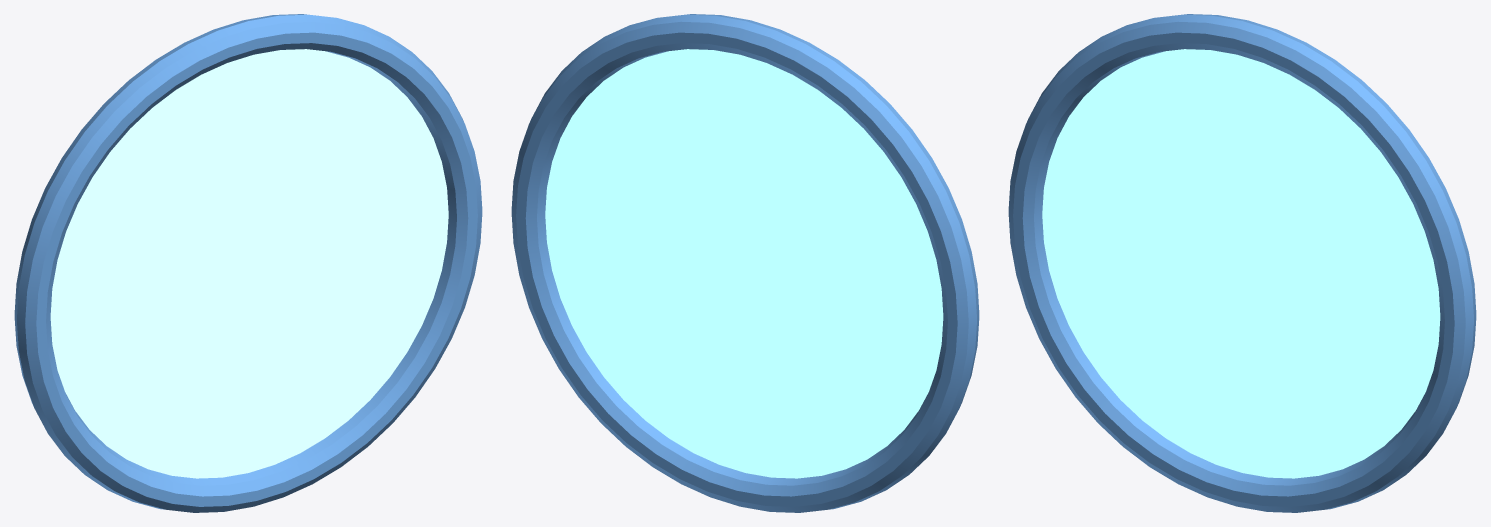
File: Portal_NextFloor.fbx
The picture shows the model from 3 angles, left to right: view 1: azimuth 30°, elevation 25°; view 2: azimuth 150°, elevation 25°; view 3: azimuth 330°, elevation 25°; orthographic projection.
Parts seen in each view (by area): view 1: Portal_NextFloor; view 2: Portal_NextFloor; view 3: Portal_NextFloor.
Boxes of the visible parts, left/top/right/bottom form: Portal_NextFloor: left=14, top=14, right=482, bottom=512; Portal_NextFloor: left=511, top=14, right=979, bottom=512; Portal_NextFloor: left=1008, top=14, right=1476, bottom=512.
Bounding box in the file's own units: 4.72 × 4.72 × 0.3043.
